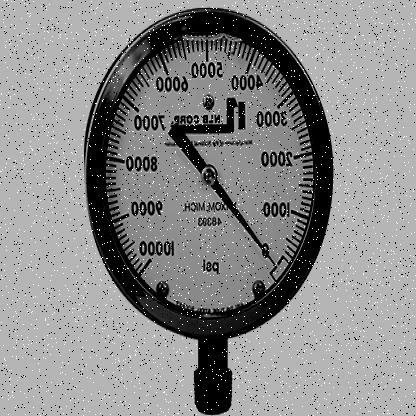needle: (211, 178, 278, 269)
